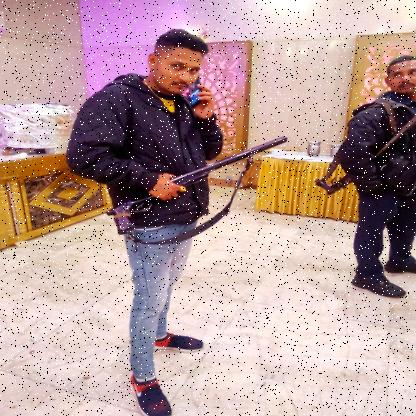rifle: (105, 134, 289, 236), (314, 115, 416, 197)
